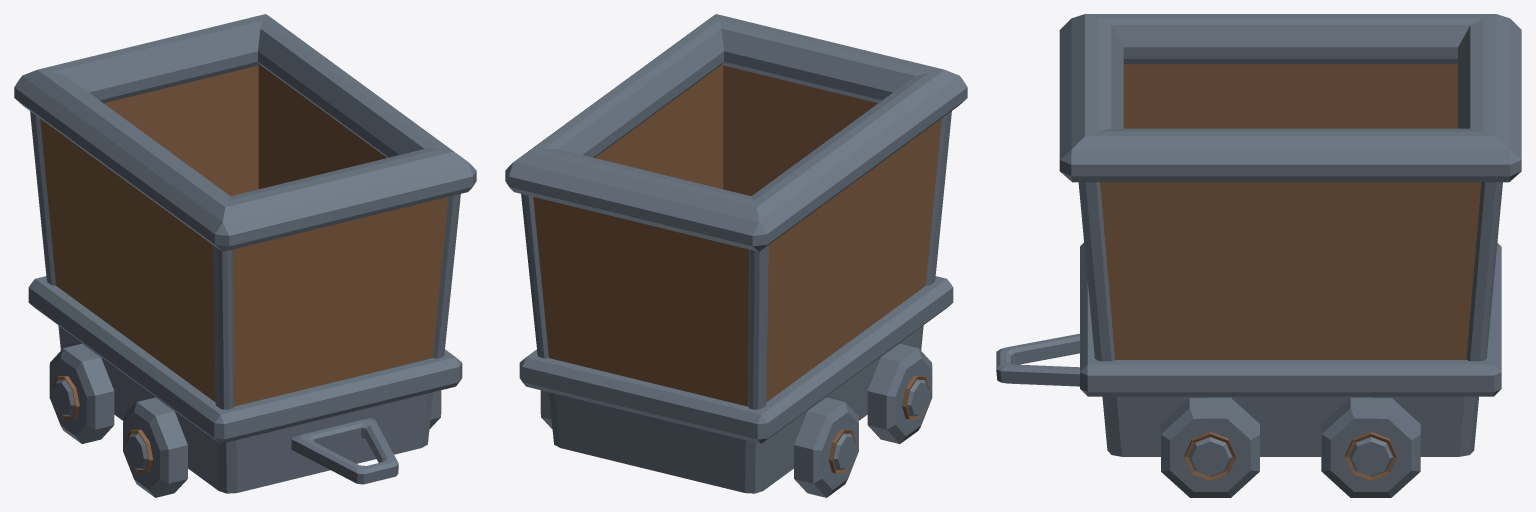
Rendered from Trolley.fbx.
3 renders of one model, left to right at view 1: azimuth 30°, elevation 25°; view 2: azimuth 150°, elevation 25°; view 3: azimuth 270°, elevation 25°, orthographic. The views are drawn at different scales.
Parts seen in each view (by area): view 1: Cube, Cube.002, Cube.001, Cube.003, Cylinder.001, Cube.004, Cube.005, Cylinder.002; view 2: Cube, Cube.002, Cube.001, Cube.003, Cylinder.001, Cube.004, Cylinder.002; view 3: Cube, Cube.002, Cube.001, Cylinder.001, Cube.003, Cube.004, Cylinder.002, Cube.005.
Part boxes in pixels (left/top/right/bottom): Cube: left=40, top=65, right=448, bottom=406; Cube.002: left=14, top=14, right=476, bottom=251; Cube.001: left=28, top=276, right=462, bottom=443; Cube.003: left=58, top=325, right=433, bottom=493; Cylinder.001: left=49, top=343, right=441, bottom=497; Cube.004: left=30, top=111, right=460, bottom=409; Cube.005: left=291, top=418, right=398, bottom=484; Cylinder.002: left=52, top=376, right=153, bottom=473; Cube: left=533, top=65, right=941, bottom=406; Cube.002: left=505, top=14, right=967, bottom=251; Cube.001: left=519, top=276, right=953, bottom=443; Cube.003: left=548, top=325, right=923, bottom=493; Cylinder.001: left=540, top=343, right=932, bottom=497; Cube.004: left=521, top=111, right=951, bottom=409; Cylinder.002: left=828, top=376, right=929, bottom=473; Cube: left=1100, top=64, right=1481, bottom=359; Cube.002: left=1059, top=14, right=1521, bottom=182; Cube.001: left=1080, top=243, right=1501, bottom=396; Cylinder.001: left=1160, top=397, right=1420, bottom=497; Cube.003: left=1102, top=396, right=1478, bottom=456; Cube.004: left=1078, top=182, right=1502, bottom=361; Cylinder.002: left=1184, top=432, right=1396, bottom=480; Cube.005: left=996, top=333, right=1079, bottom=386.
Size of the model in its own units: 175 by 182 by 248.
